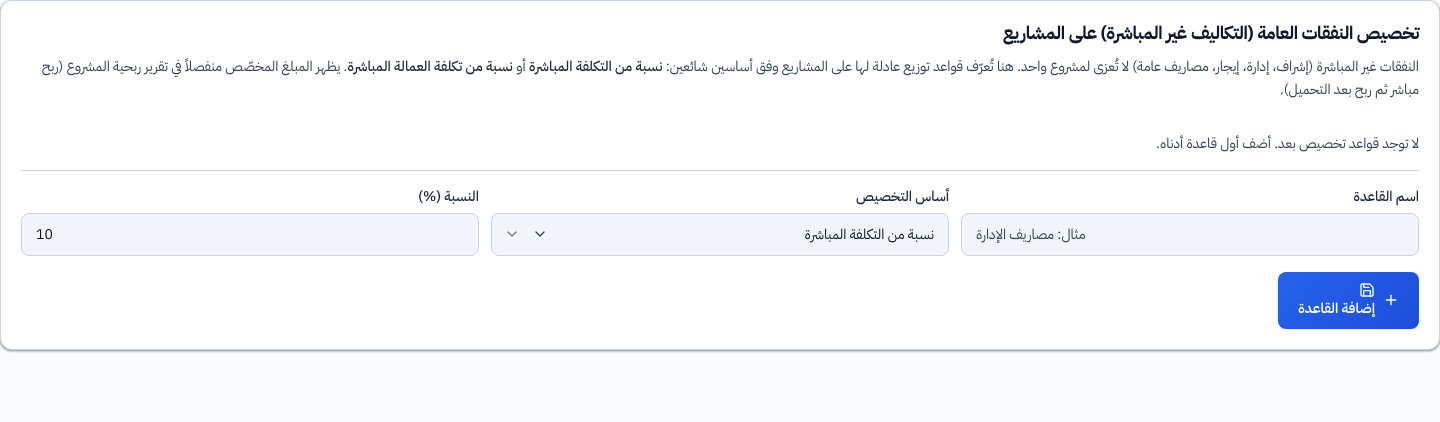
OverheadSettings › validates a missing rule name
This screenshot has width=1440, height=422.
expect the text "لا توجد قواعد تخصيص بعد. أضف أول قاعدة أدناه." is shown: met, box [1156,133,1419,154]
Click the button "إضافة القاعدة": (1349, 300) [1278,272,1419,329]
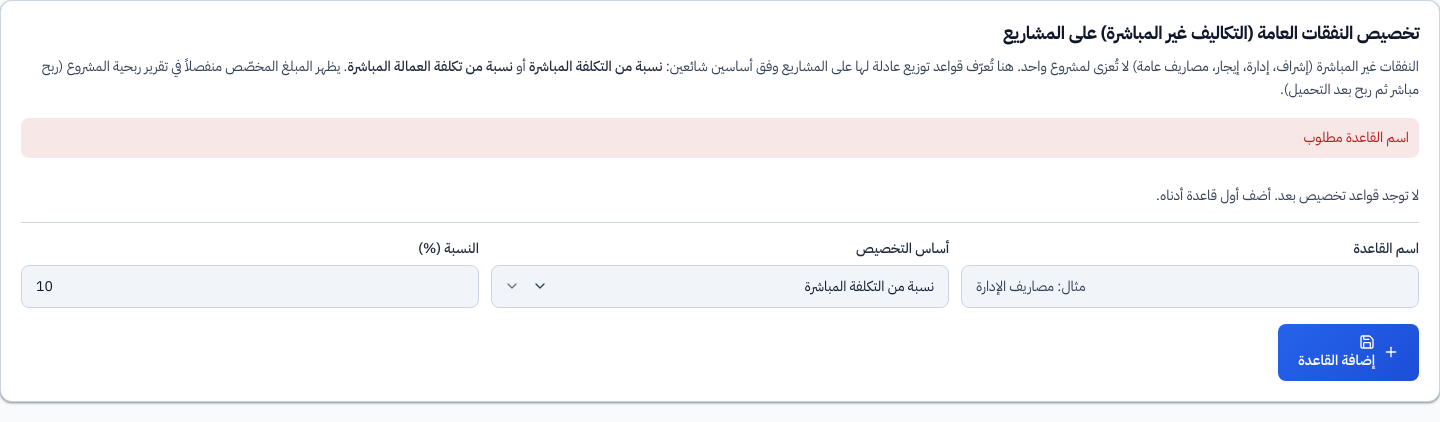
expect the text "اسم القاعدة مطلوب" is shown: met, box [21,118,1419,158]
